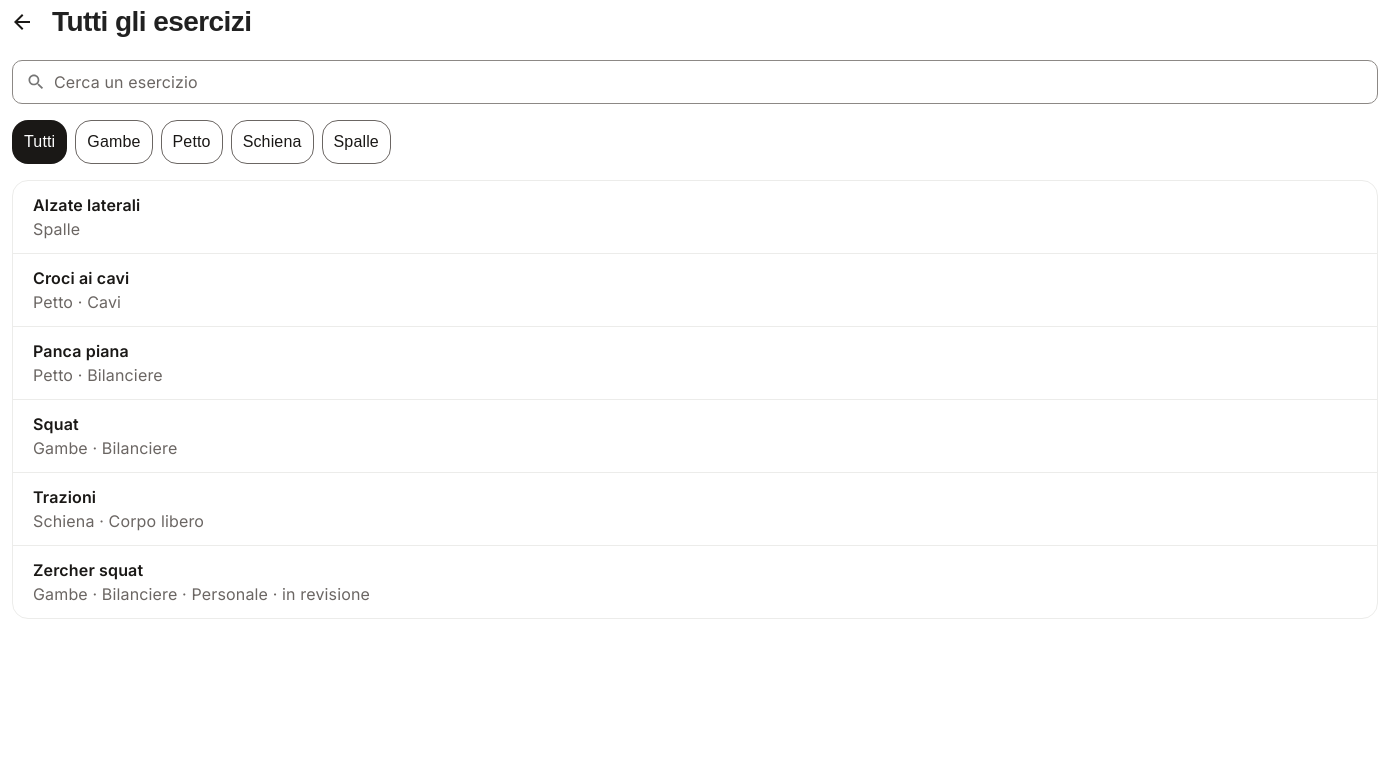
Test: filtro per gruppo muscolare › ricerca e filtro si sommano
Expected: the list is shown, x1=13 y1=181 x2=1377 y2=618
Click the button "Gambe" at (114, 142), box x1=75 y1=120 x2=152 y2=164
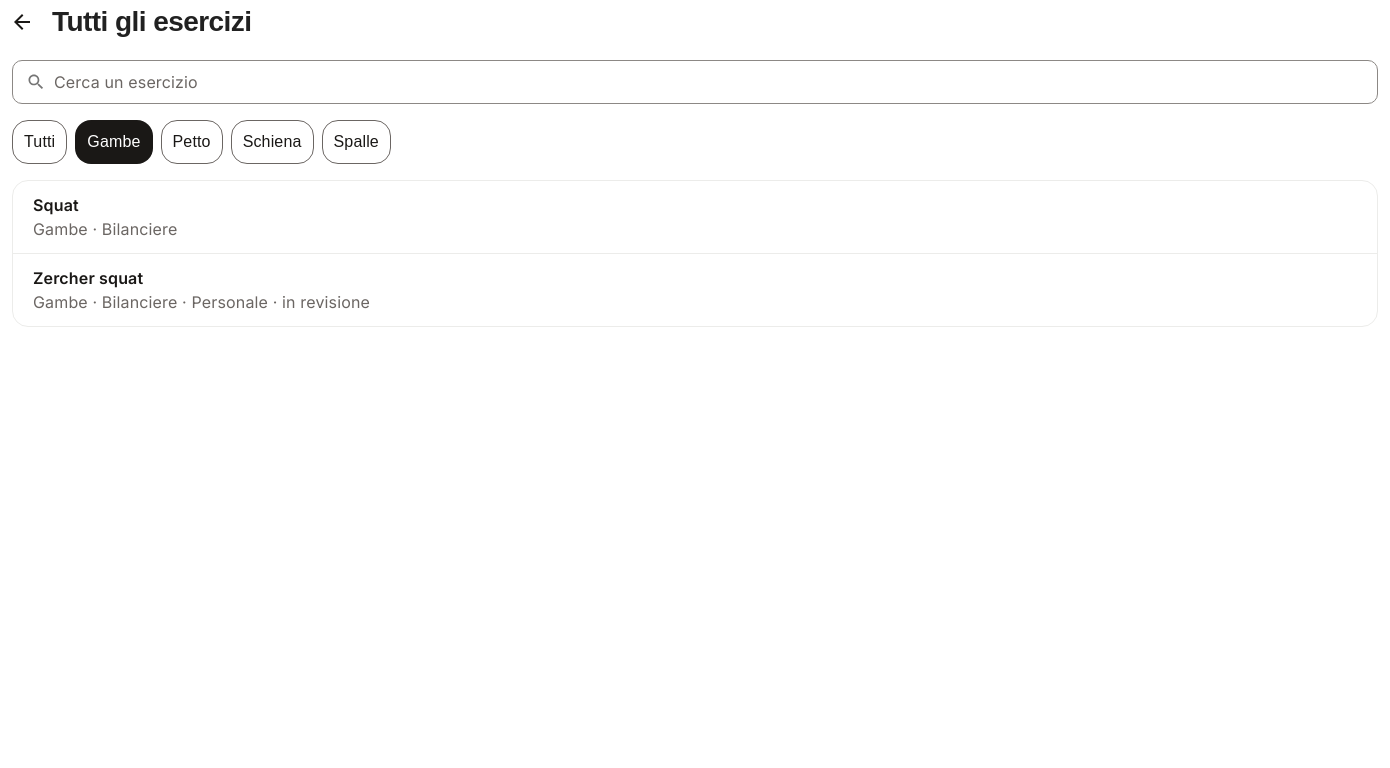
Type "zercher" into the field labelled "Cerca un esercizio" at (716, 82), box x1=54 y1=60 x2=1378 y2=104
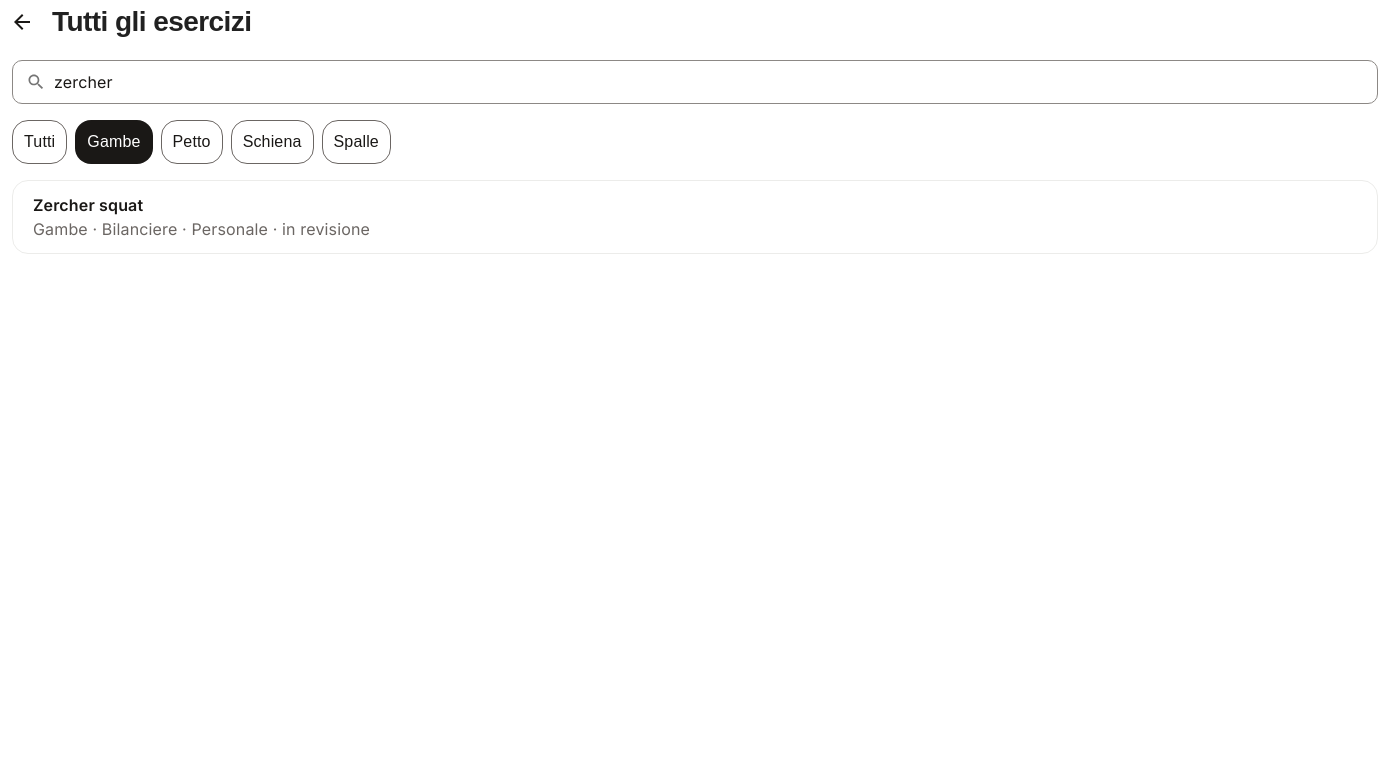
Click the button "Petto" at (192, 142), box x1=160 y1=120 x2=223 y2=164
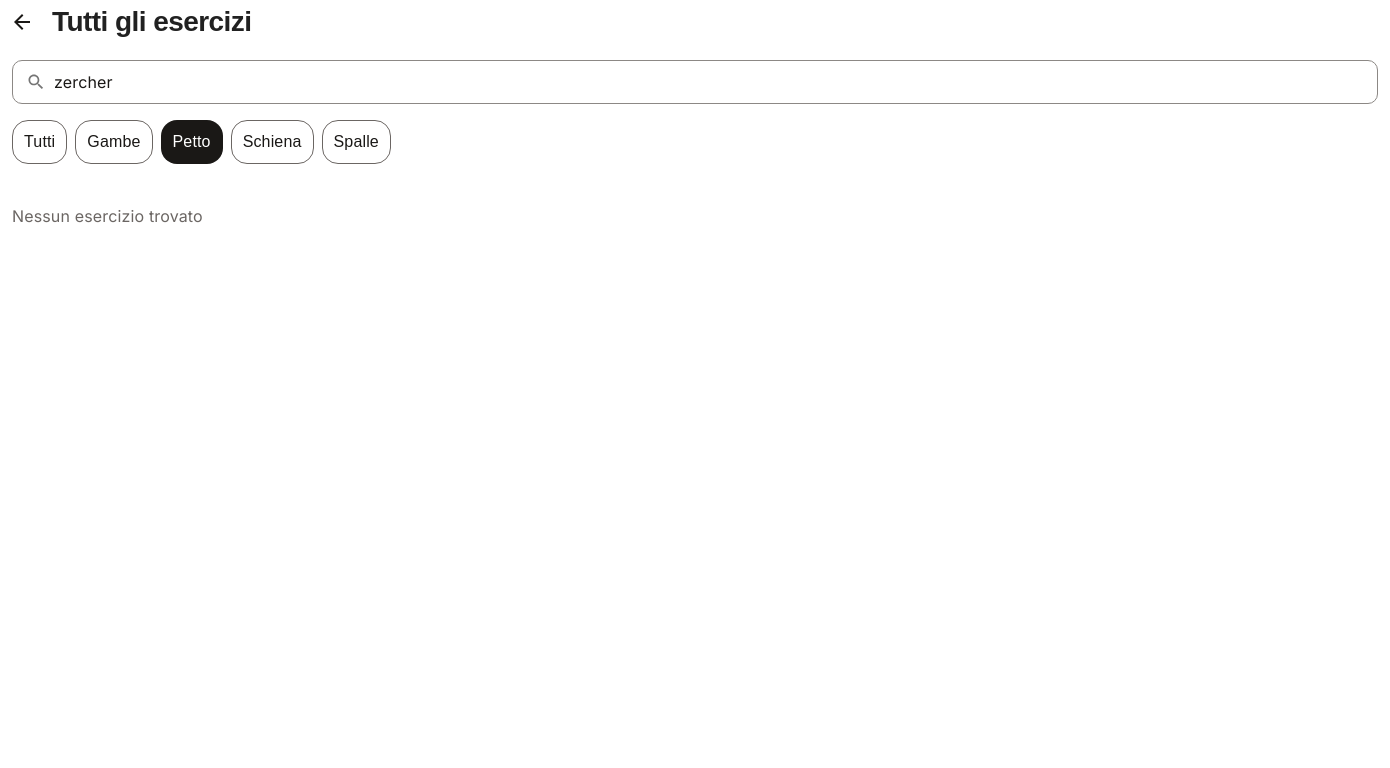
Now the text "Nessun esercizio trovato" is shown, box x1=12 y1=206 x2=203 y2=226
